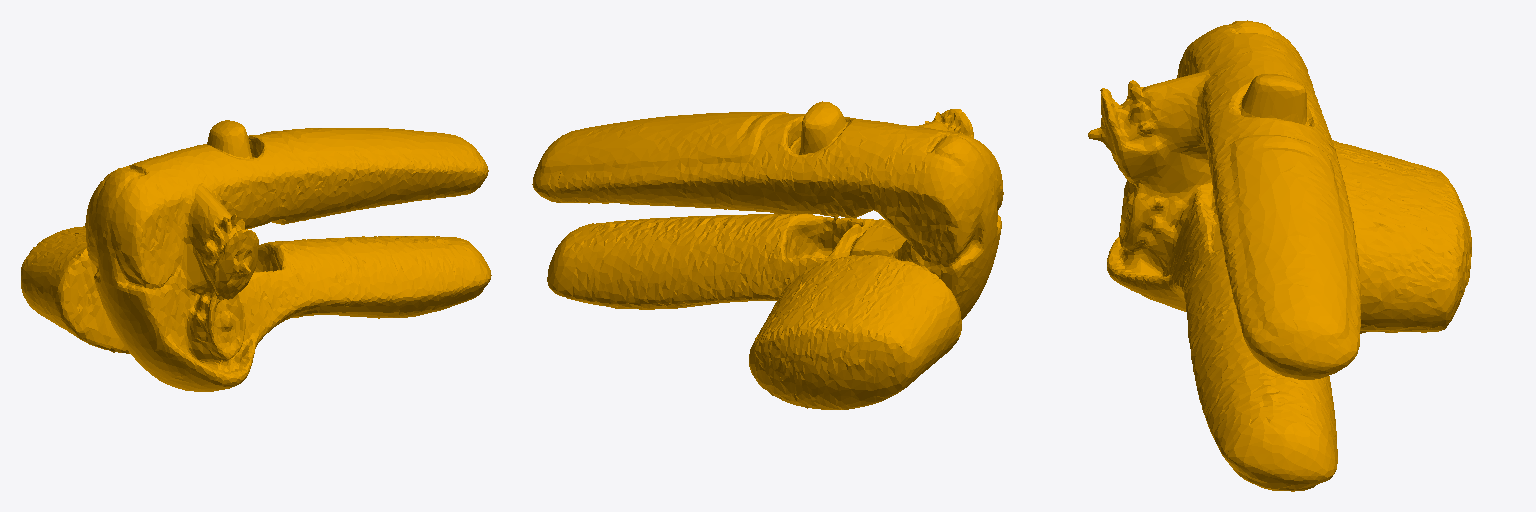
The robot description file, URDF, robot "bu2f4tch":
<?xml version='1.0'?>

<robot name="bu2f4tch">
    <static>false</static>
    <link name="link">
        <inertial>
            <mass value="0.17717598313957408"/>
            <inertia ixx="8.660357427981608e-05" ixy="3.046488390424152e-06" ixz="1.3101665884036238e-06"
                     iyy="0.00022925776594310806" iyz="1.0440566740320343e-05" izz="0.0002223691716571819"/>
        </inertial>
        <collision name="collision">
            <geometry>
                <mesh filename="package://miscnet/train/bu2f4tch/collision_model_vhacd.obj"/>
            </geometry>
        </collision>
        <visual name="visual">
            <geometry>
                <mesh filename="package://miscnet/train/bu2f4tch/visual_model.obj"/>
            </geometry>
        </visual>
    </link>
</robot>

--- What the picture shows (computed from the rendered views, not written in the file) ---
3 views of the same robot in one strip: view 1: azimuth 30°, elevation 25°; view 2: azimuth 150°, elevation 25°; view 3: azimuth 270°, elevation 25° (orthographic).
Model bu2f4tch with 1 links and 0 joints (none), rooted at link, posed every joint at zero.
Links seen in each view (by area): view 1: link; view 2: link; view 3: link.
Boxes of the visible links, left/top/right/bottom form: link: left=21, top=120, right=491, bottom=391; link: left=532, top=101, right=1003, bottom=409; link: left=1088, top=20, right=1471, bottom=491.
Bounding box of the posed robot: 0.1242 × 0.083 × 0.0669 m (x, y, z).
Meshes: 1 distinct files referenced, 1 mesh visuals loaded (1 OBJ).
